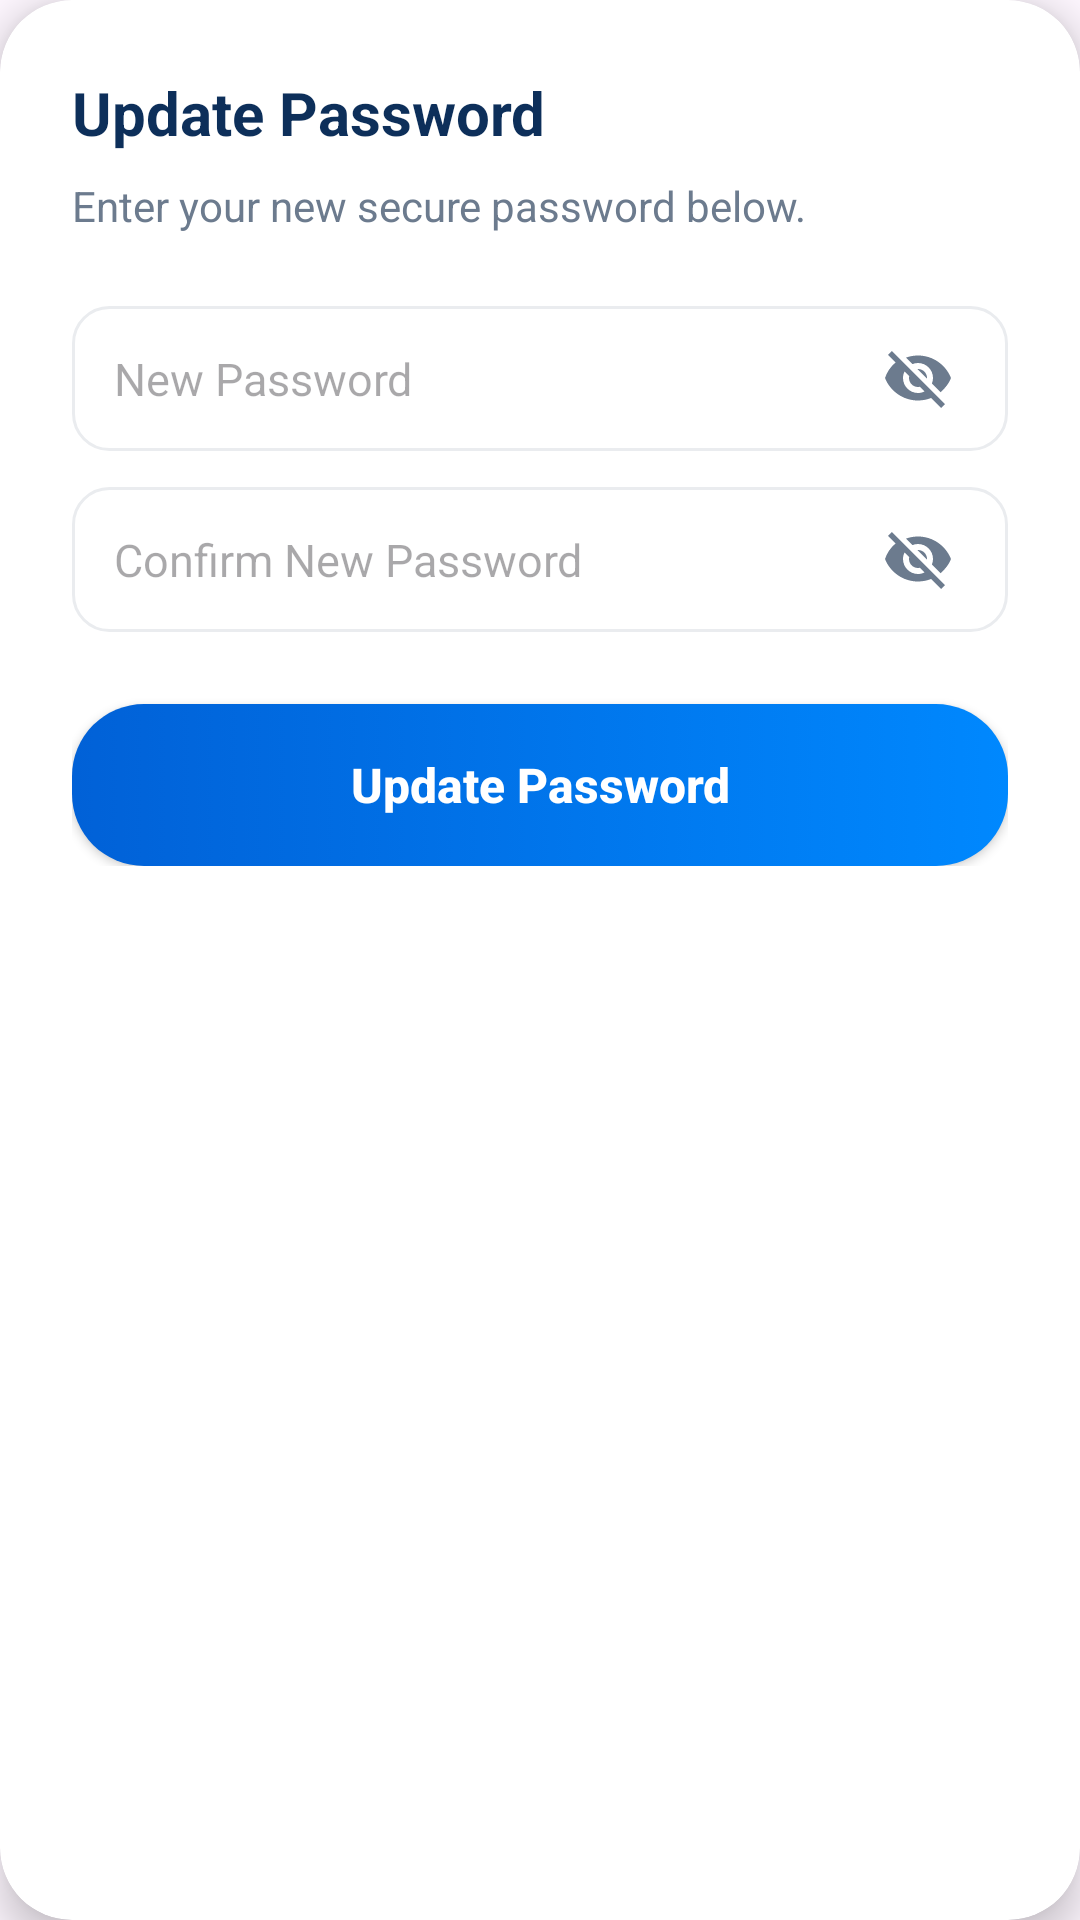

Icon bounding boxes for this 1080px×1920px phone screenshot, format bbox=(x1, y1, x2, y2):
eye off: bbox=(885, 351, 951, 408), bbox=(885, 532, 951, 589)
